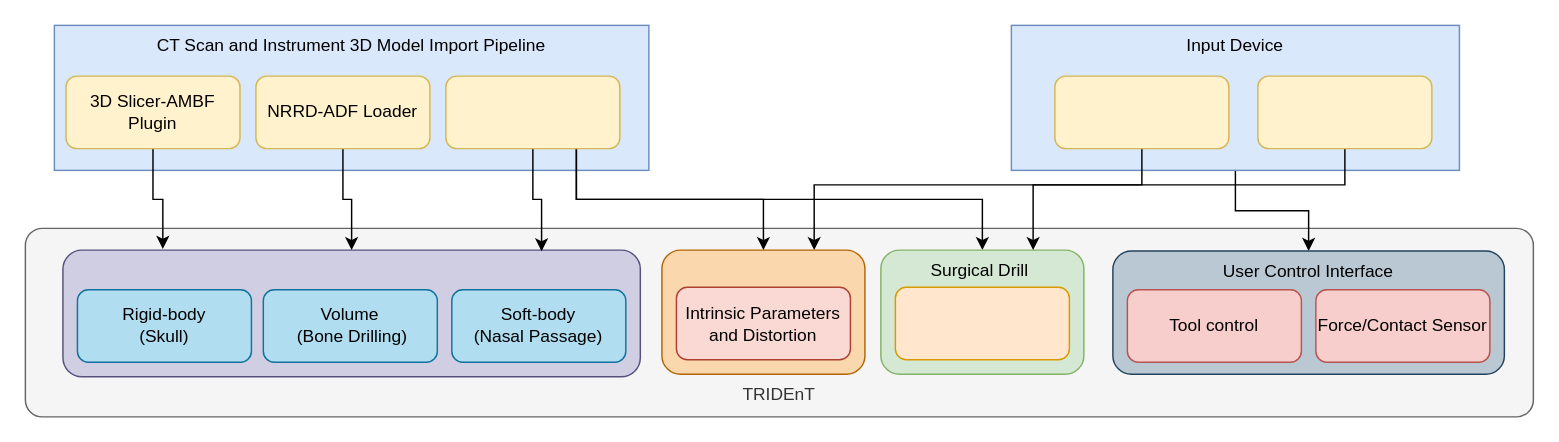
Image size: 1559x442. Some labels were removed from this diagram. The box of each missing label's shape, as (x1, y1, x2, y2) in pixels:
3D Mouse: (1053, 75, 1229, 149)
Anatomical Structure: (61, 249, 640, 377)
Blender to AMBF Plugin: (444, 75, 620, 149)
Bone drilling: (894, 286, 1069, 360)
Phantom Omni: (1256, 75, 1432, 149)
Surgical Endoscope: (660, 249, 865, 374)
